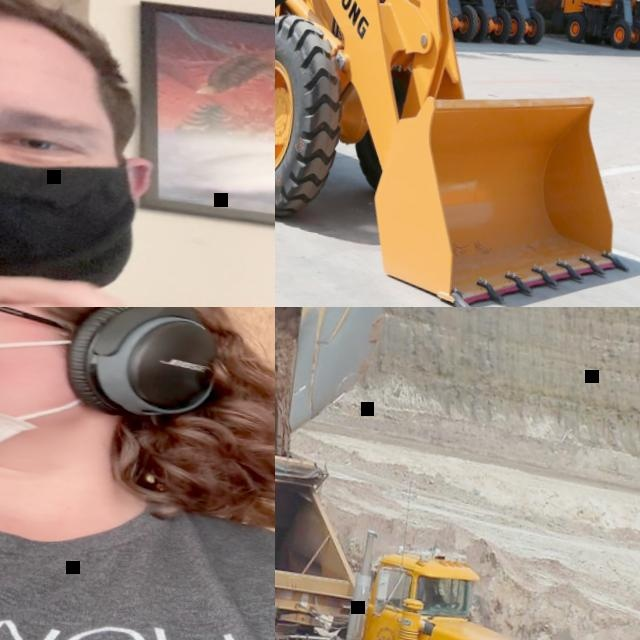Mask: (0, 116, 151, 307), (0, 307, 91, 477)
NO-Hardhat: (0, 0, 131, 105)
NO-Safety Vest: (0, 427, 275, 640)
Person: (0, 307, 275, 640), (0, 0, 275, 307), (418, 576, 451, 607)
Safety Vest: (419, 582, 439, 604)
machinery: (275, 0, 640, 307), (275, 388, 577, 640), (555, 0, 640, 53), (434, 0, 536, 44), (467, 0, 561, 47), (399, 0, 496, 40)
